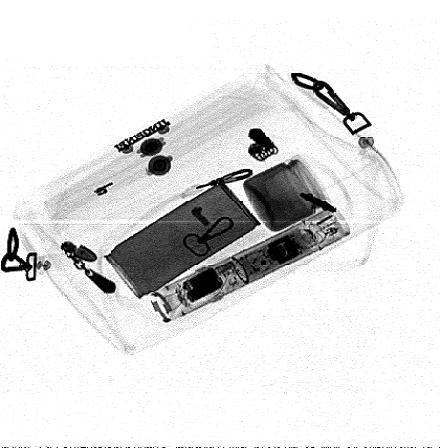Baton: (149, 205, 350, 324)
